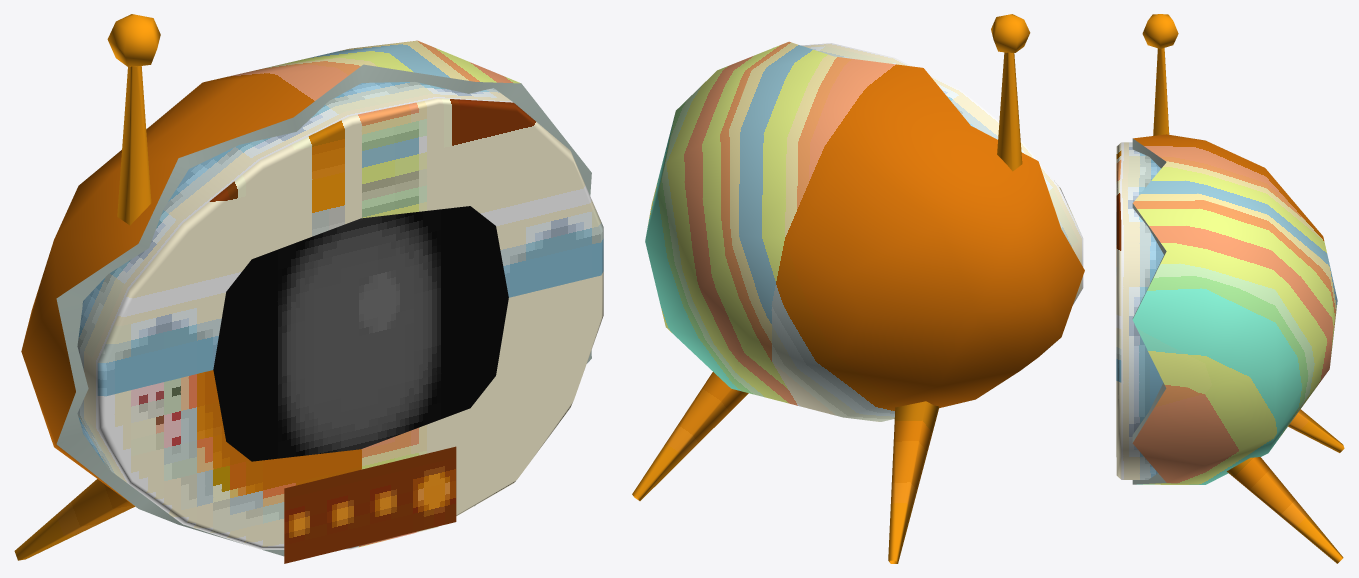
File: int_egg_tv.dae
3 views of the same model, side by side, from view 1: azimuth 30°, elevation 25°; view 2: azimuth 150°, elevation 25°; view 3: azimuth 270°, elevation 25° (orthographic). The views are drawn at different scales.
Visible parts, largest first — view 1: int_egg_tv; view 2: int_egg_tv; view 3: int_egg_tv.
Boxes of the visible parts, x1,y1,x2,y2 form: int_egg_tv: (14,14,603,563); int_egg_tv: (632,14,1084,563); int_egg_tv: (1116,14,1344,563).
Bounding box in the file's own units: 30.25 × 34.99 × 17.01.
Materials: 2 (2 with a texture image).
